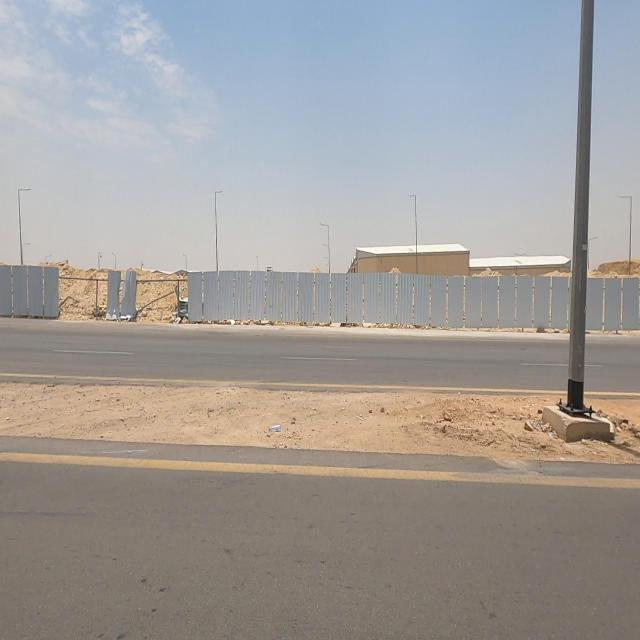debris: (226, 383, 319, 467)
